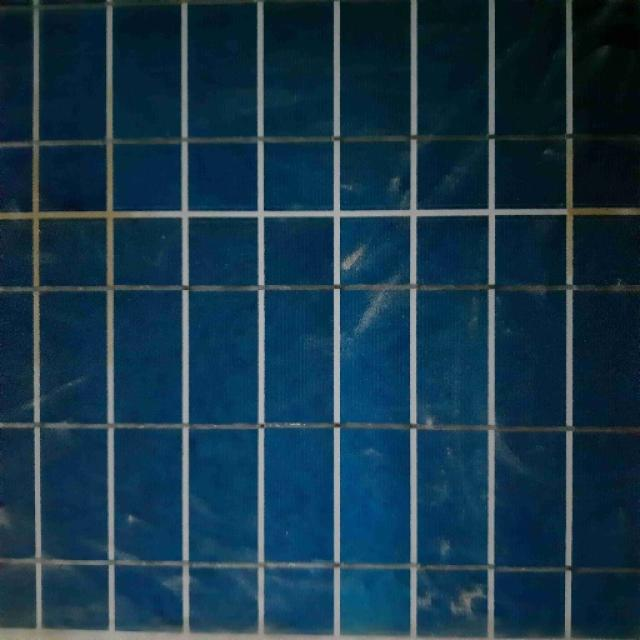Dirty: (0, 0, 608, 534)
